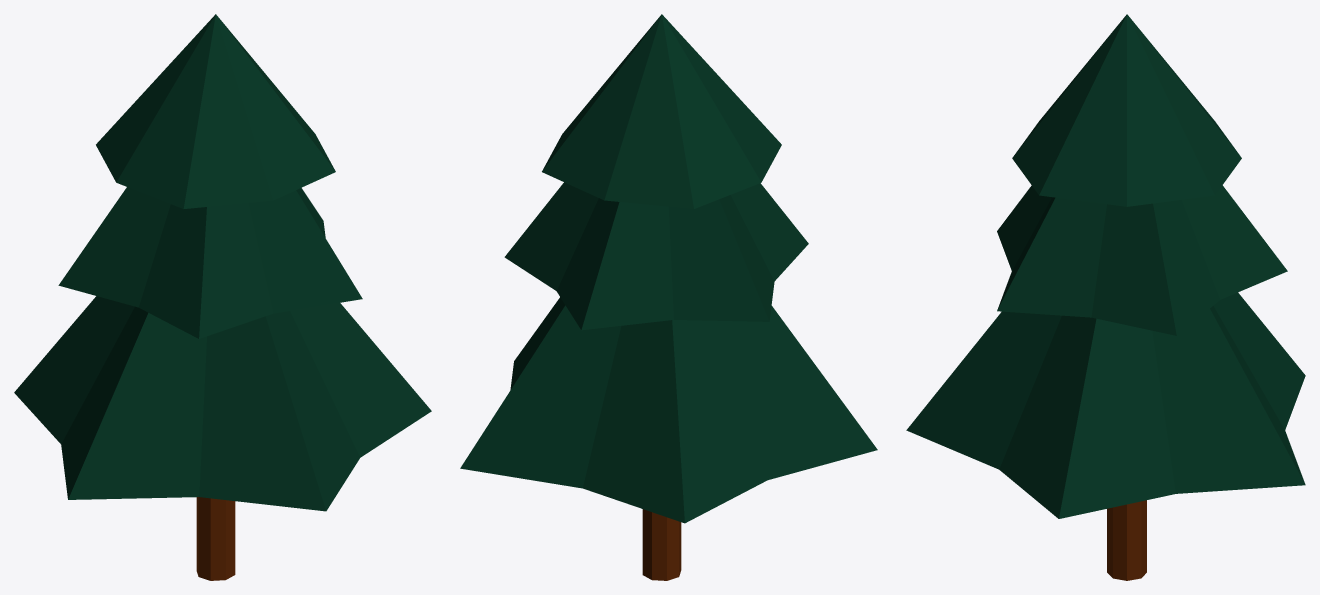
Rendered from Tree2.fbx.
3 renders of one model, left to right at view 1: azimuth 30°, elevation 25°; view 2: azimuth 150°, elevation 25°; view 3: azimuth 270°, elevation 25°, orthographic.
Visible parts, largest first — view 1: Cone.002, Cone.001, Cone, Cylinder; view 2: Cone.002, Cone.001, Cone, Cylinder; view 3: Cone.002, Cone.001, Cone, Cylinder.
Part boxes in pixels (box(x1,y1,x2,y2)): Cone.002: box(14, 296, 431, 511); Cone.001: box(58, 187, 362, 338); Cone: box(96, 14, 335, 208); Cylinder: box(196, 497, 235, 580); Cone.002: box(460, 297, 877, 523); Cone.001: box(504, 182, 808, 330); Cone: box(542, 14, 781, 208); Cylinder: box(642, 509, 681, 580); Cone.002: box(906, 292, 1305, 518); Cone.001: box(997, 185, 1287, 335); Cone: box(1012, 14, 1241, 206); Cylinder: box(1107, 500, 1146, 580).
Bounding box in the file's own units: 726 × 1065 × 690.
